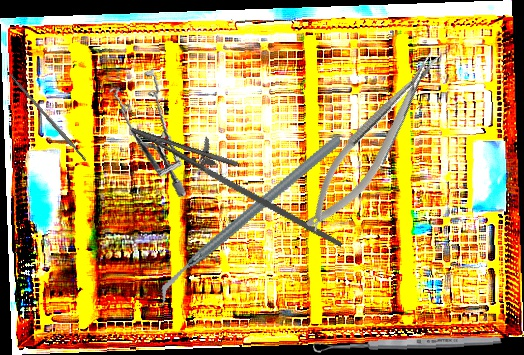Chopper: (126, 132, 373, 308)
Needle Holder: (119, 109, 361, 249), (290, 44, 458, 241)
Scalpel Handle: (7, 72, 88, 163)
Speculum: (94, 62, 205, 198)
Surgical Spoon: (312, 334, 502, 353)
